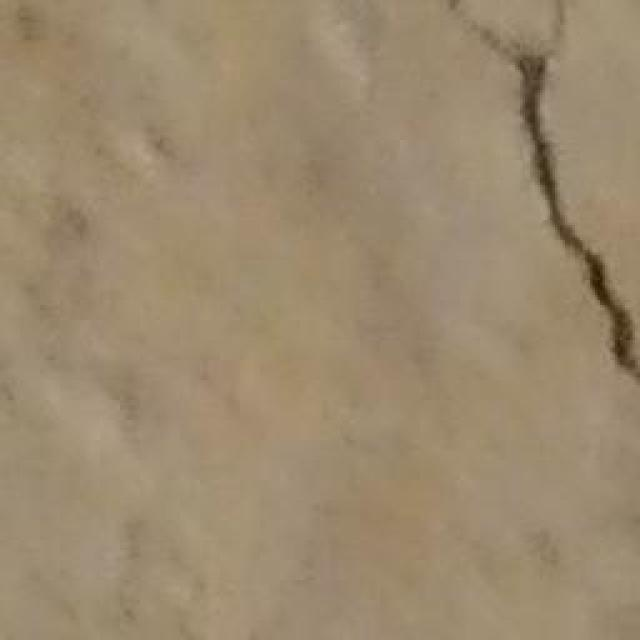Radial: (452, 0, 640, 421)
